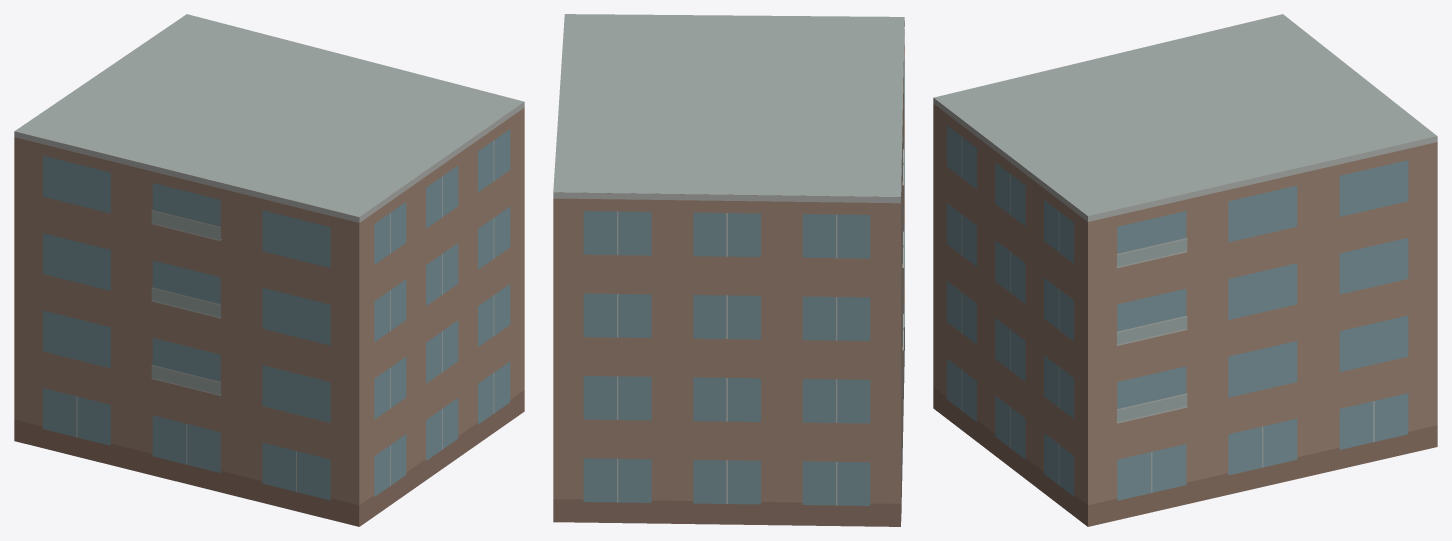
The model's file is survey-upis-32666850.glb.
3 renders of one model, left to right at view 1: azimuth 30°, elevation 25°; view 2: azimuth 150°, elevation 25°; view 3: azimuth 270°, elevation 25°, orthographic. The views are drawn at different scales.
Visible parts, largest first — view 1: survey-upis-32666850.tmp; view 2: survey-upis-32666850.tmp; view 3: survey-upis-32666850.tmp.
Boxes of the visible parts, box(x1,y1,x2,y2) form: survey-upis-32666850.tmp: box(14, 14, 524, 526); survey-upis-32666850.tmp: box(553, 14, 904, 526); survey-upis-32666850.tmp: box(933, 14, 1437, 526).
Bounding box in the file's own units: 18.18 × 13.02 × 19.16.
